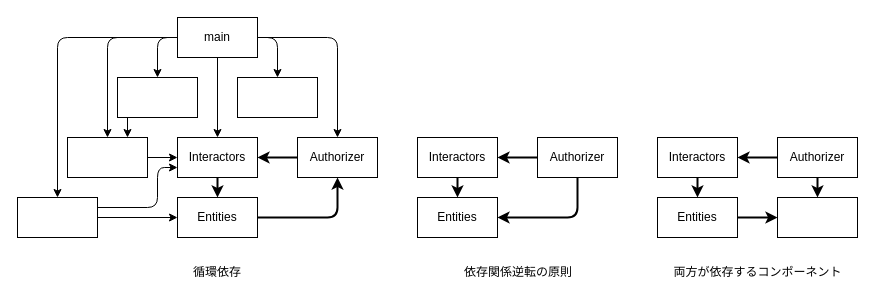
This 875x305 diagram has some shape labels left out. The shapes that lost their labels are listed below. From the top down, each one's box as (x1, y1, x2, y2) in pixels, then its label:
(116, 76, 198, 118): View
(236, 76, 318, 118): Controllers
(66, 136, 148, 178): Presenters
(16, 196, 98, 238): Database
(776, 196, 858, 238): Permissions
